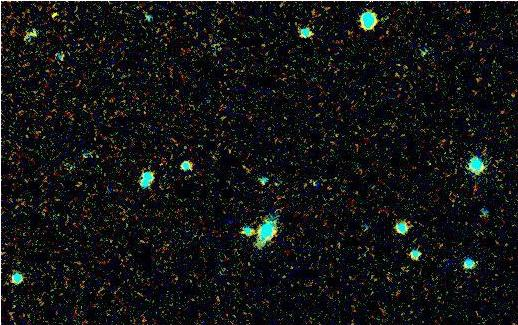star: (38, 0, 68, 30)
